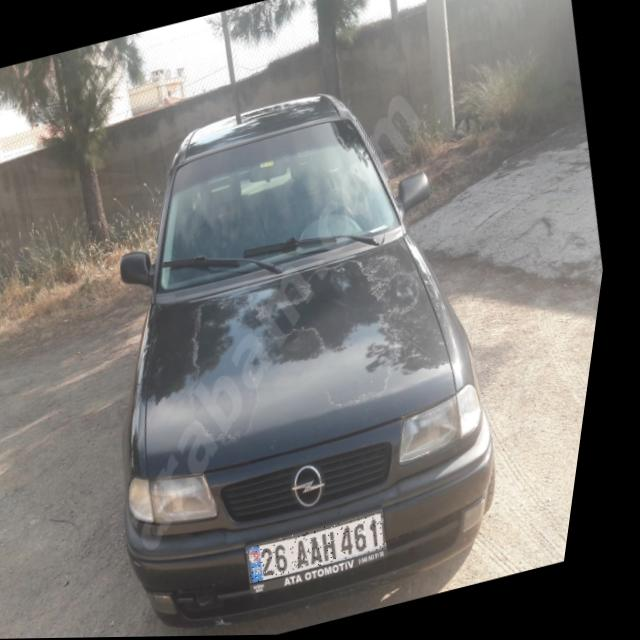license_plate: (257, 513, 406, 585)
